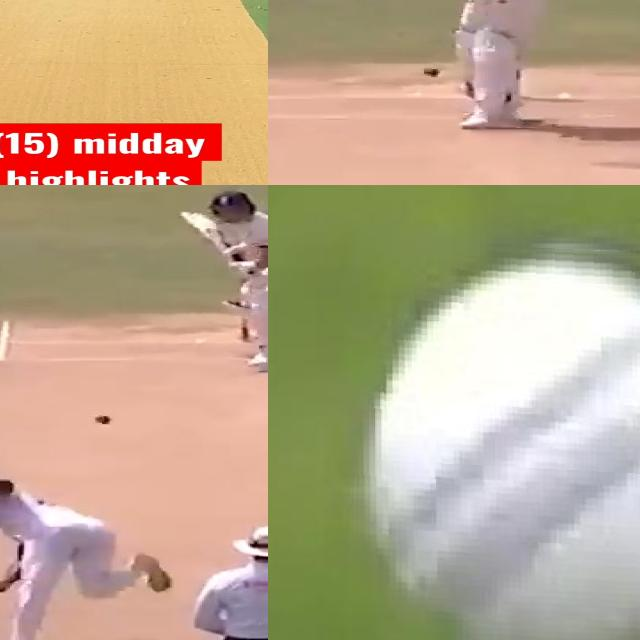Cricket ball: (352, 238, 640, 640), (421, 64, 442, 78), (92, 413, 114, 425)
